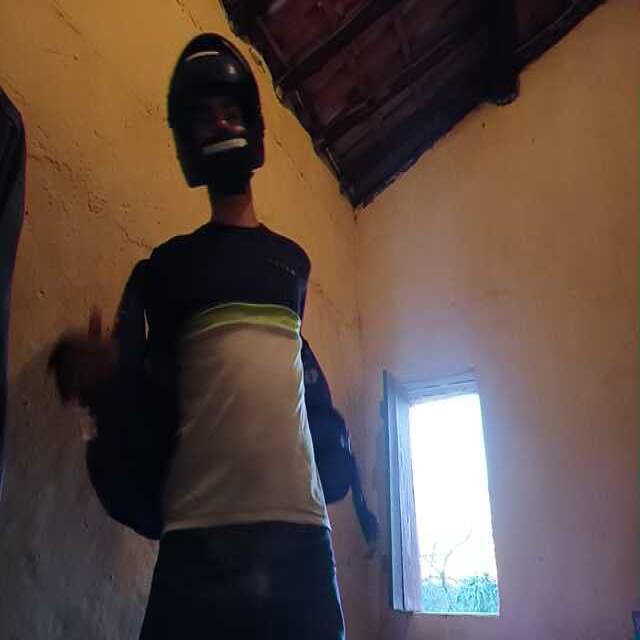capacete: (168, 40, 262, 190)
colete: (108, 281, 166, 529), (298, 292, 359, 515)
pessoa: (97, 91, 368, 640)
